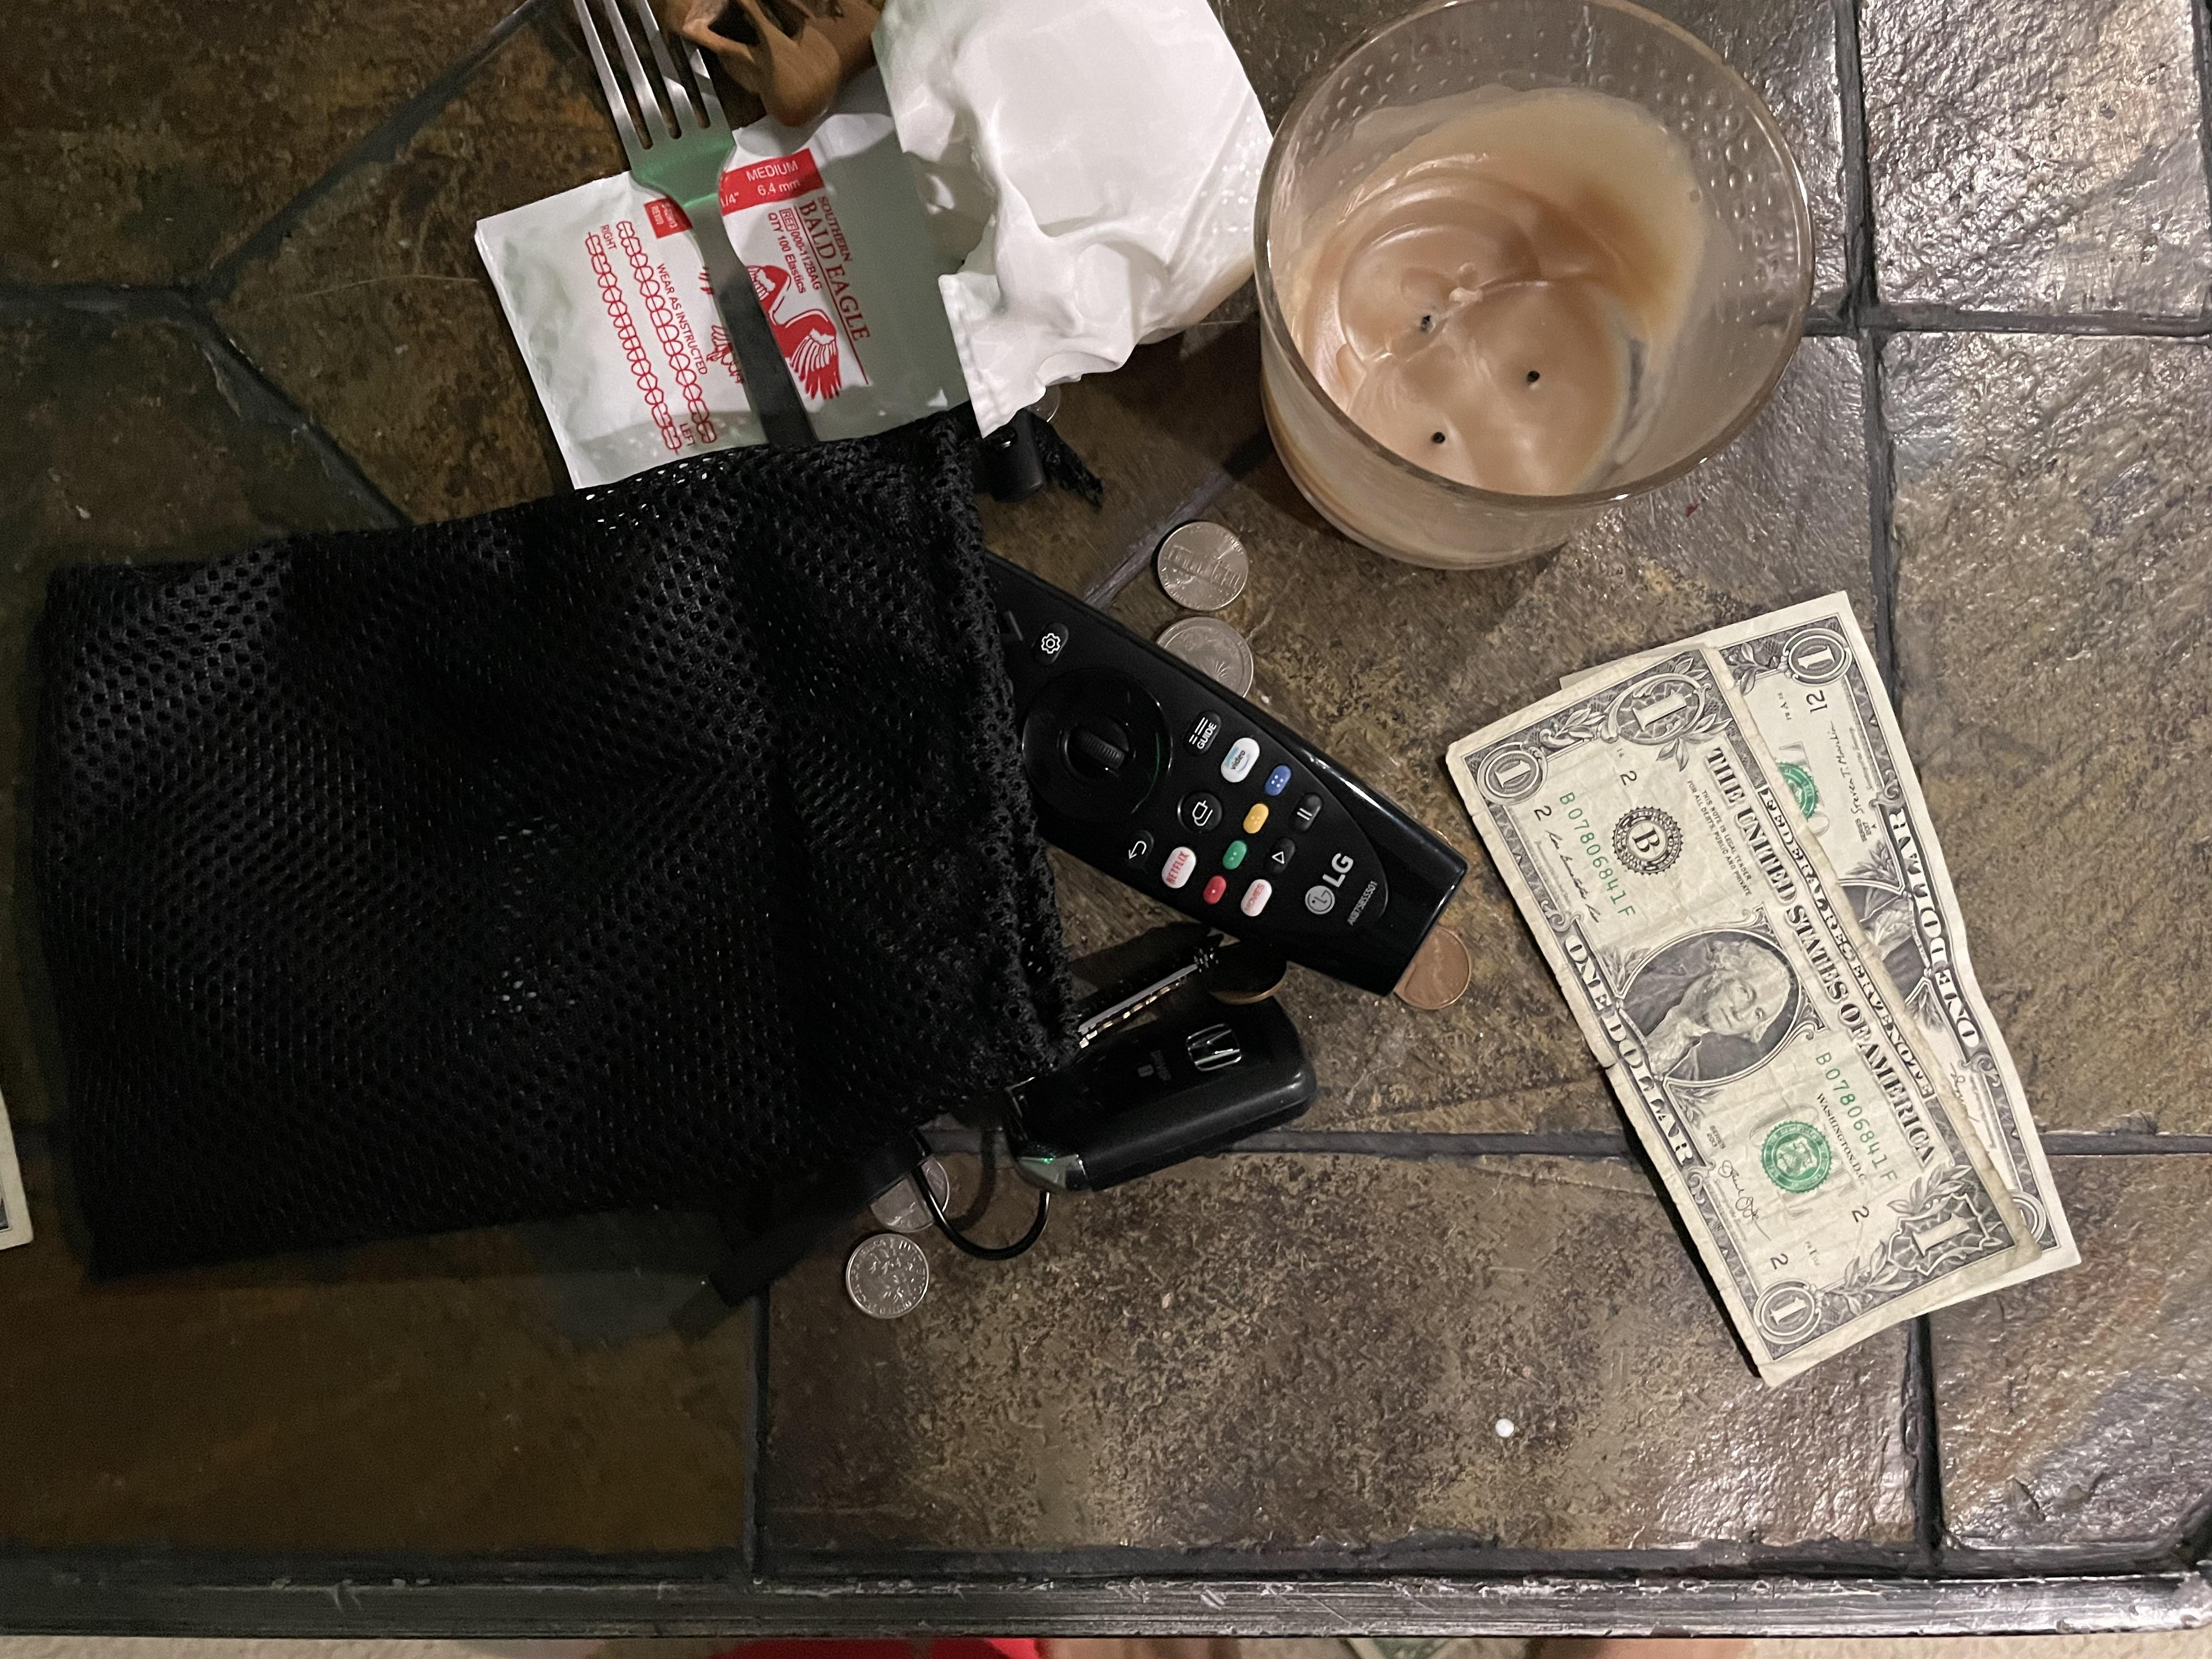Dime: (840, 1232, 953, 1319)
Nickel: (1137, 509, 1259, 608)
OneBill: (1430, 633, 2029, 1413)
Quarter: (1141, 613, 1291, 721)
